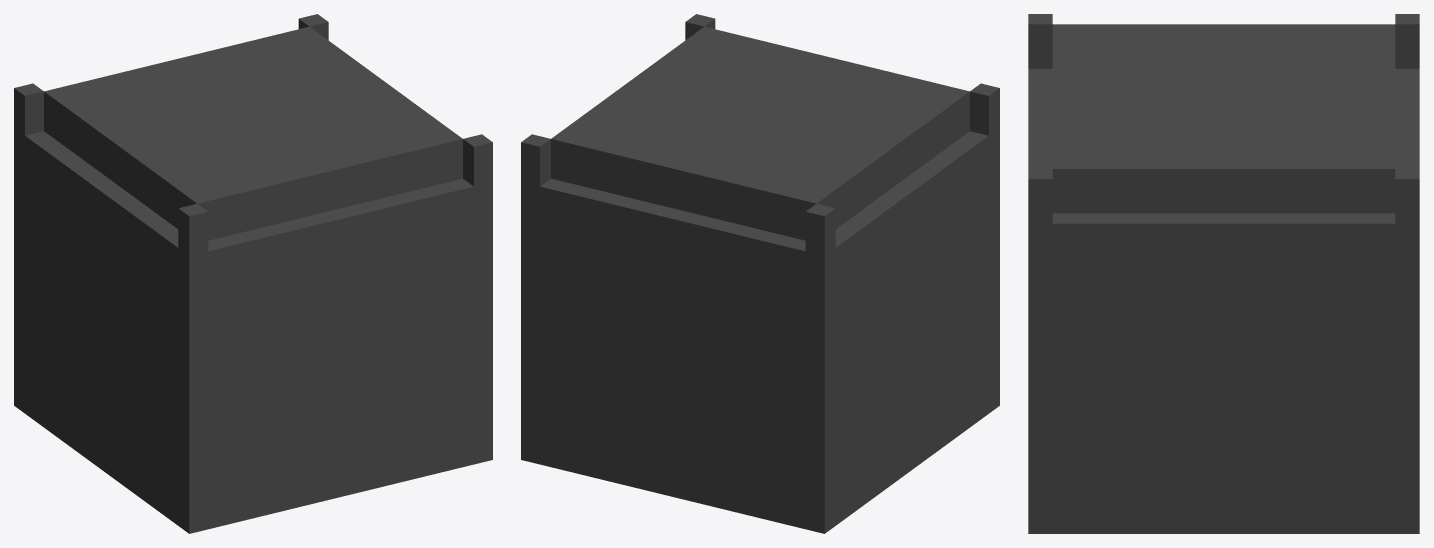
File: Moyou8.obj
The picture shows the model from 3 angles, left to right: view 1: azimuth 30°, elevation 25°; view 2: azimuth 150°, elevation 25°; view 3: azimuth 270°, elevation 25°; orthographic projection. The views are drawn at different scales.
Visible parts, largest first — view 1: Moyou8; view 2: Moyou8; view 3: Moyou8.
Boxes of the visible parts, x1=… form: Moyou8: x1=14, y1=14, x2=492, y2=533; Moyou8: x1=521, y1=14, x2=999, y2=533; Moyou8: x1=1028, y1=14, x2=1419, y2=533.
Bounding box in the file's own units: 16 × 16 × 16.
Materials: 1 (1 with a texture image).
